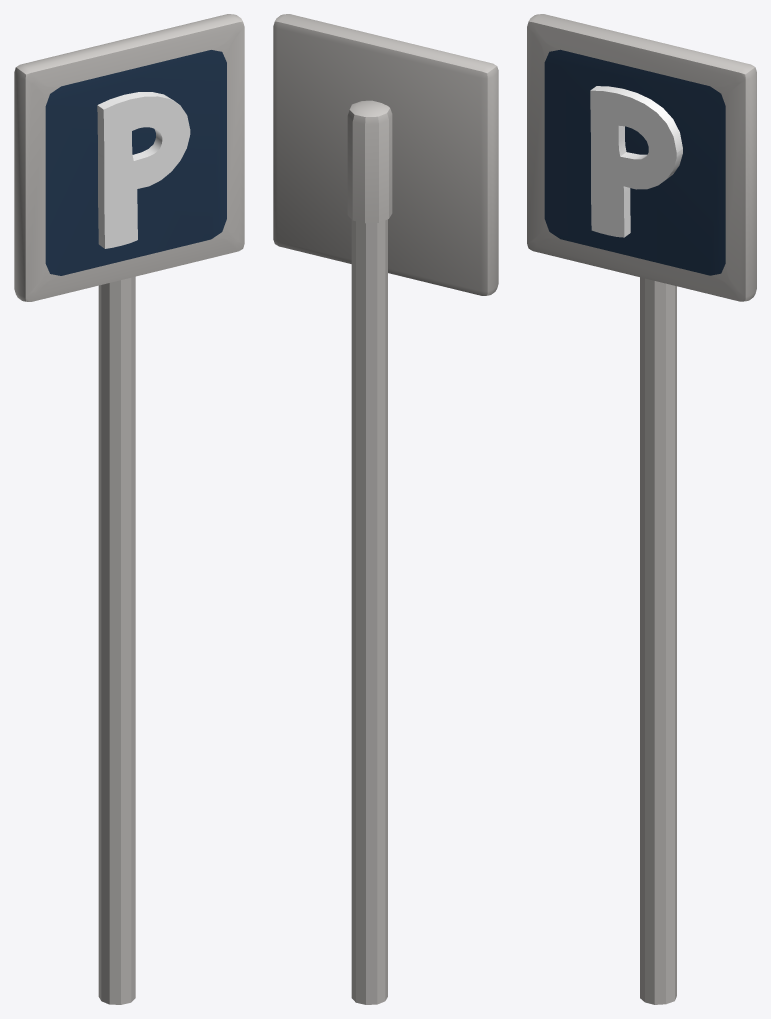
The model's file is SM_traffic_sign_01.fbx.
3 views of the same model, side by side, from view 1: azimuth 30°, elevation 25°; view 2: azimuth 150°, elevation 25°; view 3: azimuth 330°, elevation 25° (orthographic). The views are drawn at different scales.
Parts seen in each view (by area): view 1: Object32413; view 2: Object32413; view 3: Object32413.
Part boxes in pixels (x1,y1,x2,y2): Object32413: [14, 14, 244, 1004]; Object32413: [273, 14, 498, 1004]; Object32413: [527, 14, 756, 1004].
Bounding box in the file's own units: 29.89 × 124 × 8.95.
